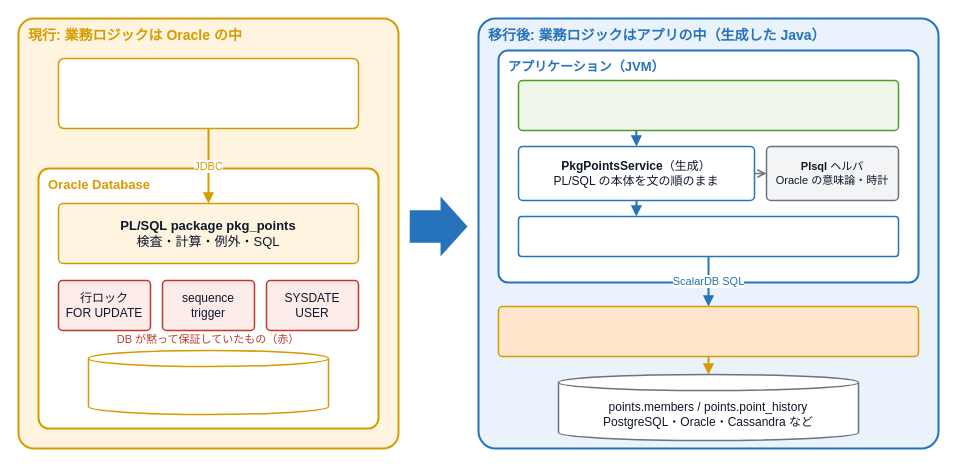
Image size: 956x466. Some labels were removed from this diagram. Each missing label, with the centre of its shape:
"members / point_history" belongs at point 208,382.
"PkgPointsRepository （生成） SQL 1 文 = 1 method" belongs at point 708,236.
"ScalarDB Cluster ScalarDB SQL（JDBC） Consensus Commit: 衝突は commit で弾く" belongs at point 708,331.
"アプリケーション CALL pkg_points.use_points(…) COMMIT / ROLLBACK" belongs at point 208,93.
"呼び出し側 （人が書く） begin → 呼ぶ → commit / rollback、衝突だけ再試行" belongs at point 708,105.
"変換" belongs at point 438,226.
